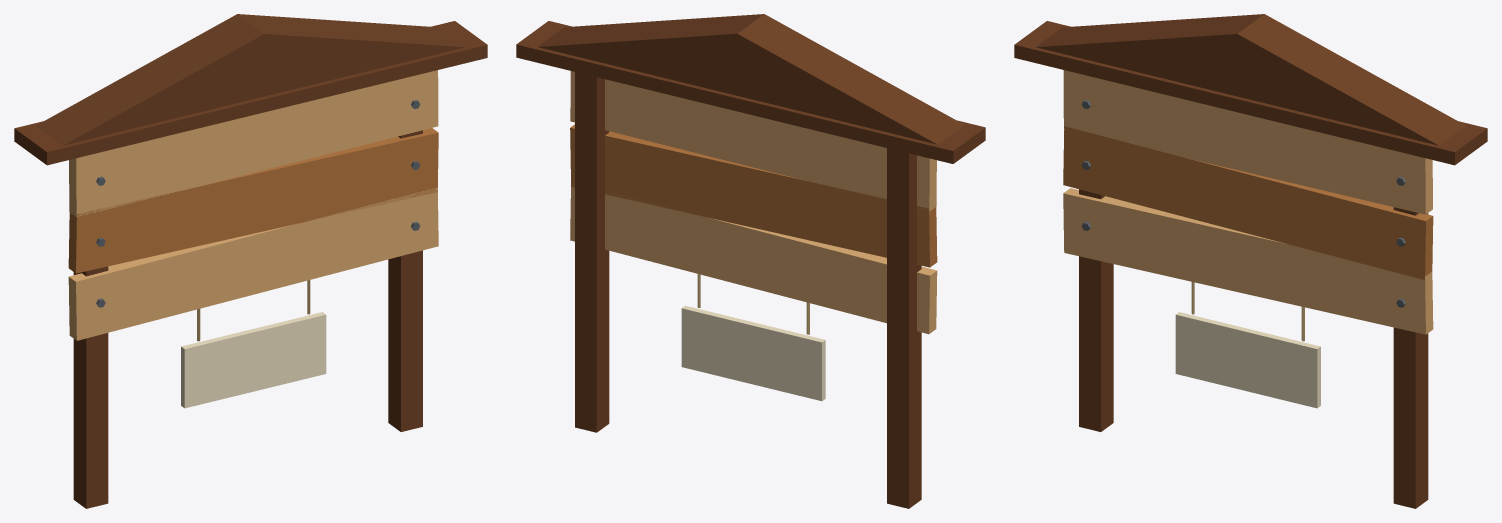
File: cartel_tienda.glb
The picture shows the model from 3 angles, left to right: view 1: azimuth 30°, elevation 25°; view 2: azimuth 150°, elevation 25°; view 3: azimuth 330°, elevation 25°; orthographic projection.
Parts seen in each view (by area): view 1: cartel_tienda_ui_madera_osc, cartel_tienda_ui_madera_clara, cartel_tienda_ui_madera, cartel_tienda_ui_papel; view 2: cartel_tienda_ui_madera_osc, cartel_tienda_ui_madera_clara, cartel_tienda_ui_madera, cartel_tienda_ui_papel; view 3: cartel_tienda_ui_madera_osc, cartel_tienda_ui_madera_clara, cartel_tienda_ui_madera, cartel_tienda_ui_papel.
Part boxes in pixels (x1=…): cartel_tienda_ui_madera_osc: x1=14, y1=14, x2=487, y2=508; cartel_tienda_ui_madera_clara: x1=68, y1=70, x2=438, y2=340; cartel_tienda_ui_madera: x1=68, y1=128, x2=438, y2=273; cartel_tienda_ui_papel: x1=181, y1=312, x2=326, y2=408; cartel_tienda_ui_madera_osc: x1=516, y1=14, x2=985, y2=508; cartel_tienda_ui_madera_clara: x1=570, y1=71, x2=937, y2=334; cartel_tienda_ui_madera: x1=570, y1=124, x2=937, y2=267; cartel_tienda_ui_papel: x1=681, y1=305, x2=825, y2=401; cartel_tienda_ui_madera_osc: x1=1014, y1=14, x2=1487, y2=508; cartel_tienda_ui_madera_clara: x1=1063, y1=70, x2=1433, y2=334; cartel_tienda_ui_madera: x1=1063, y1=126, x2=1433, y2=279; cartel_tienda_ui_papel: x1=1175, y1=312, x2=1320, y2=408.
Size of the model in its own units: 2.8 by 2.68 by 0.36.
